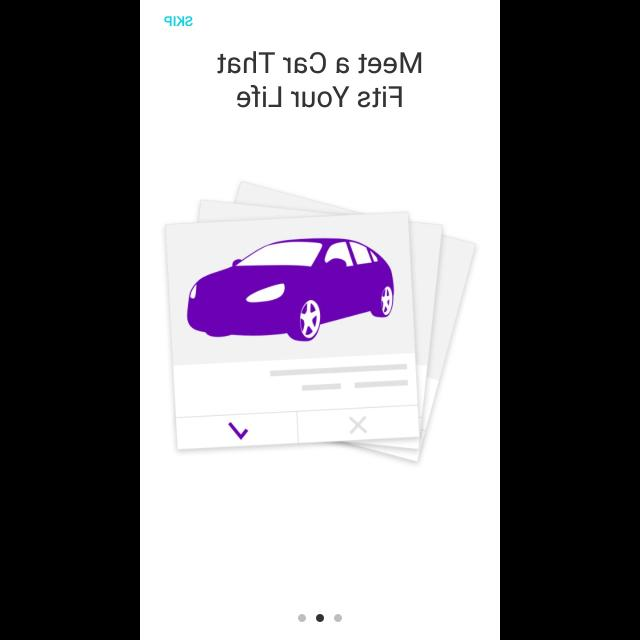image: (164, 182, 476, 462)
pageindicator: (298, 614, 342, 622)
text: (217, 52, 421, 108), (164, 16, 192, 28)
